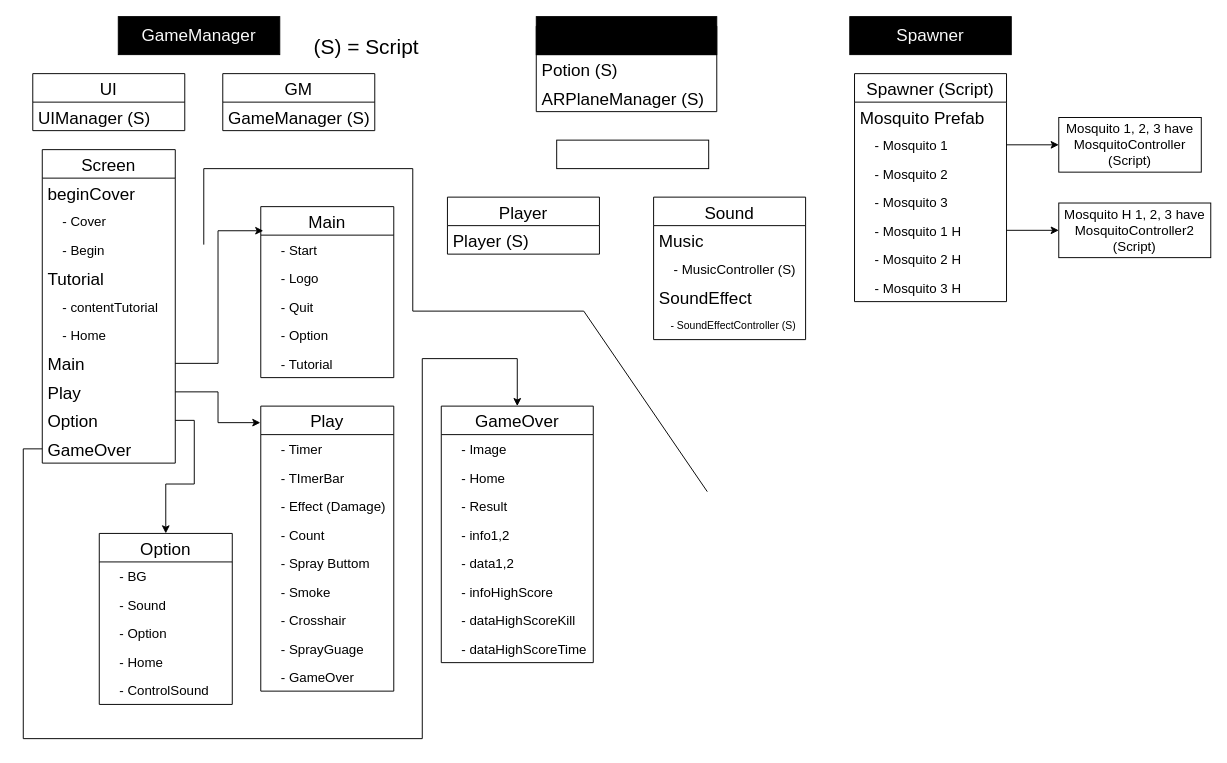
The diagram is 1227 pixels wide and 763 high, and some of its shapes have lost their labels. Each missing label, with the centre of its shape:
AR Camera: the point at 632,154
AR Session Origin: the point at 626,35
